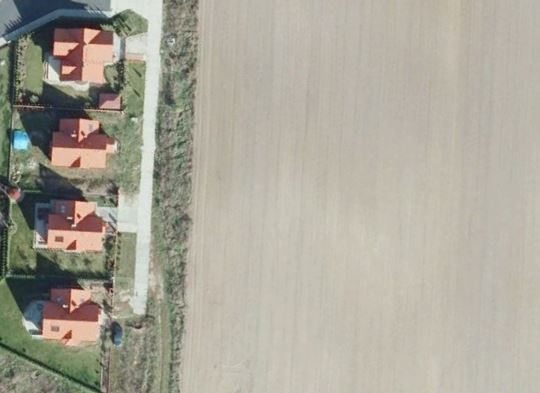family house: (49, 26, 127, 87), (37, 283, 109, 348), (45, 115, 123, 175), (41, 193, 110, 255)
